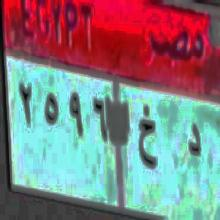2: (18, 76, 35, 135)
5: (41, 90, 63, 135)
6: (89, 96, 110, 146)
9: (68, 83, 85, 144)
daal: (185, 121, 205, 167)
khaa: (132, 103, 160, 177)
